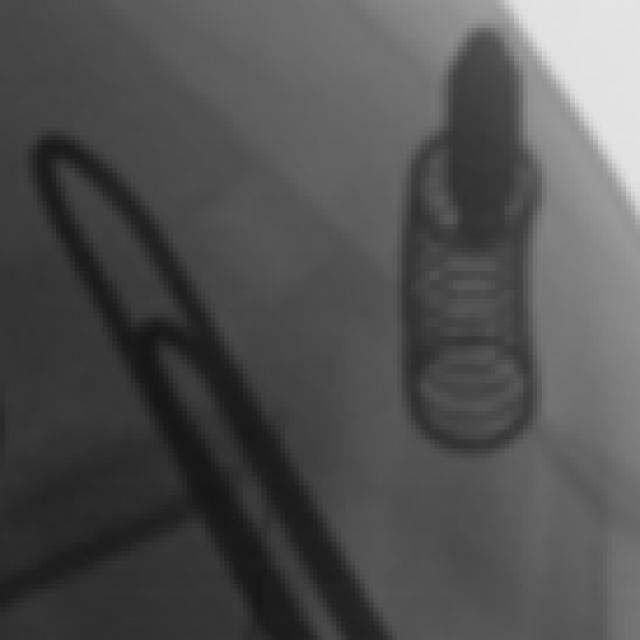BLADE: (1, 487, 165, 618)
